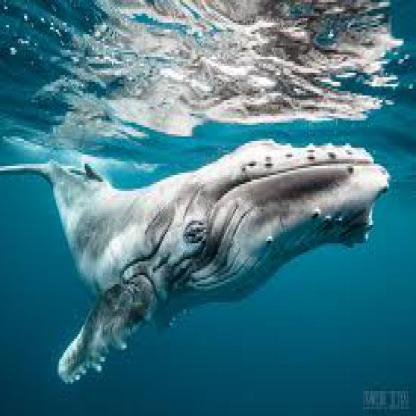blue_whale: (18, 118, 396, 362)
